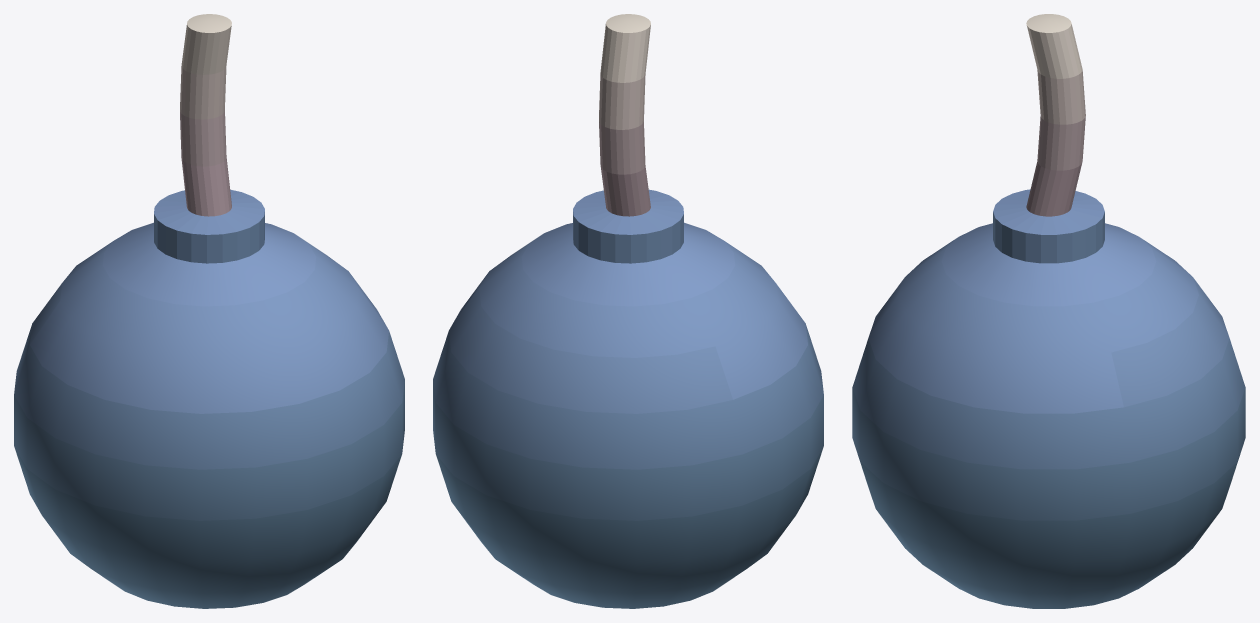
File: bomb.glb
3 views of the same model, side by side, from view 1: azimuth 30°, elevation 25°; view 2: azimuth 150°, elevation 25°; view 3: azimuth 270°, elevation 25° (orthographic).
Parts seen in each view (by area): view 1: Bomb.001; view 2: Bomb.001; view 3: Bomb.001.
Part boxes in pixels (x1=…): Bomb.001: x1=14, y1=14, x2=404, y2=608; Bomb.001: x1=433, y1=14, x2=823, y2=608; Bomb.001: x1=852, y1=14, x2=1245, y2=608.
Bounding box in the file's own units: 0.4068 × 0.6601 × 0.411.
